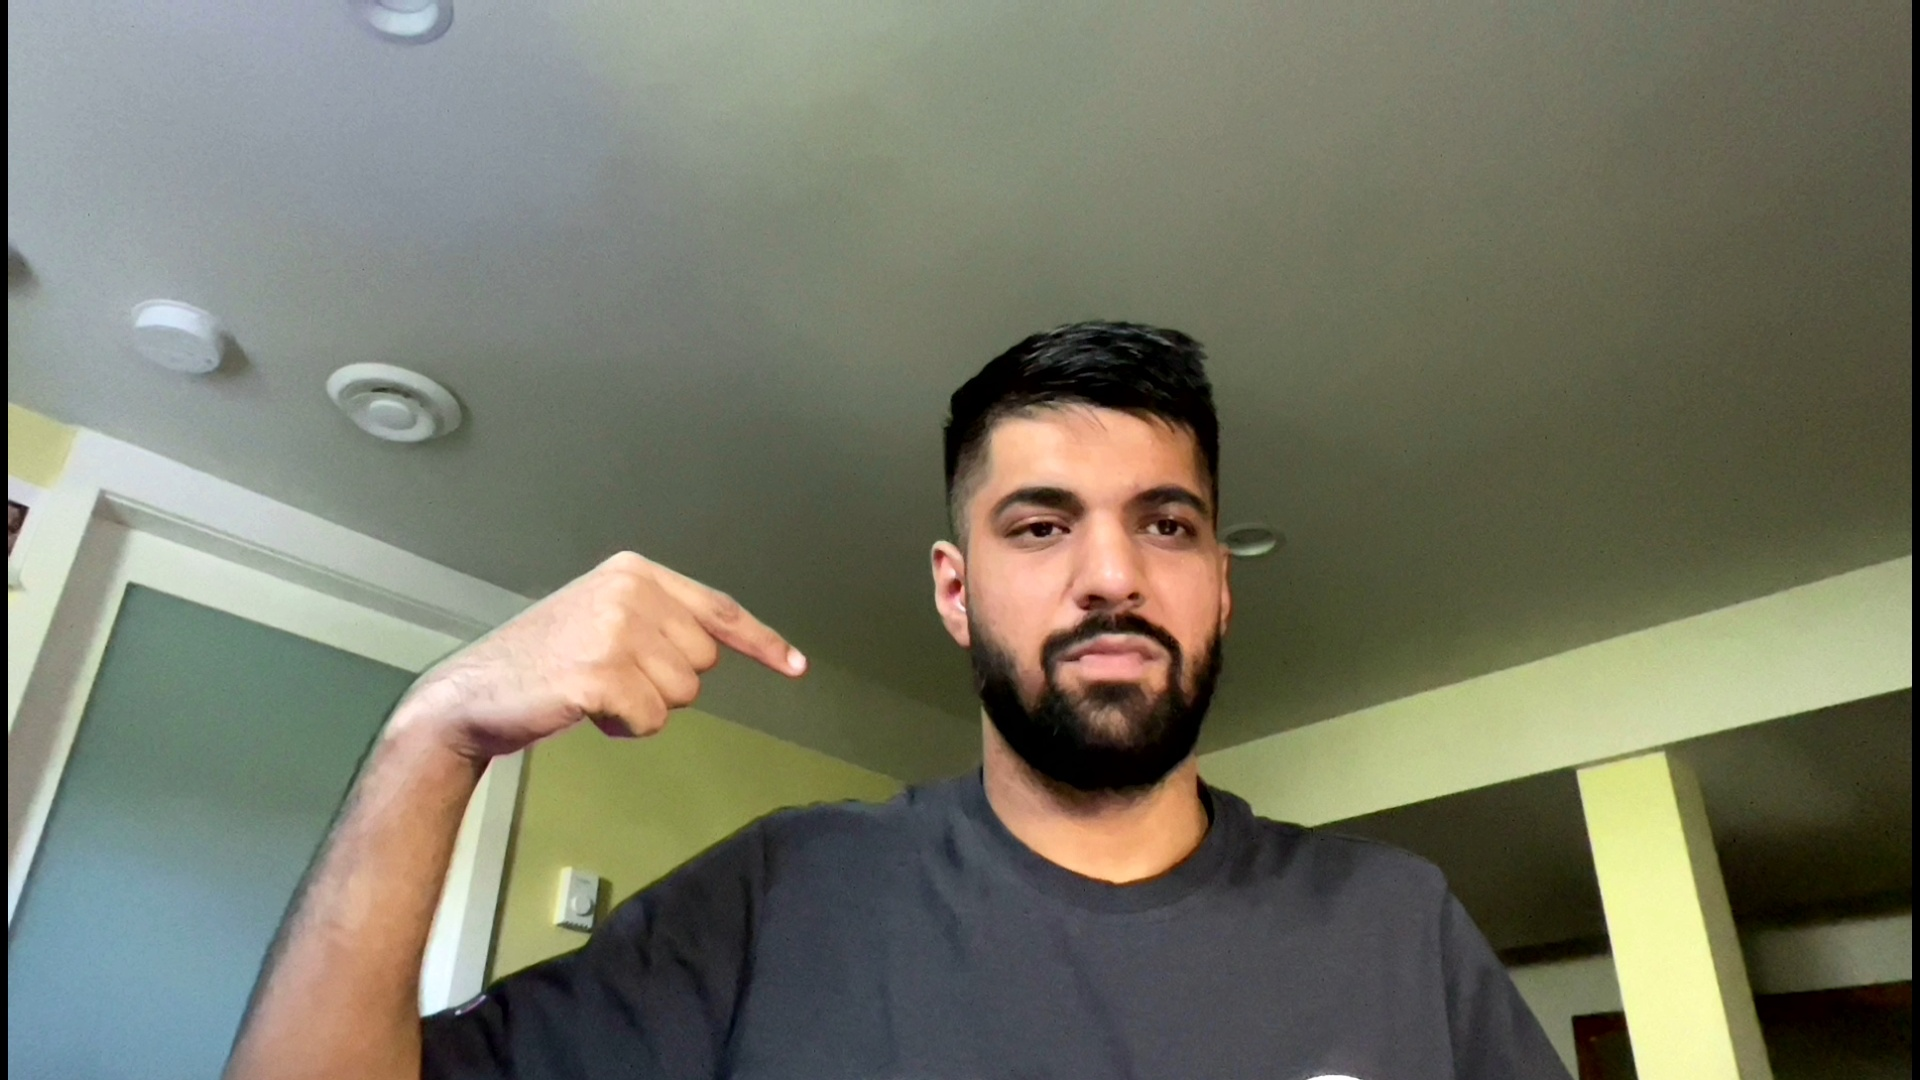Vikrant: (440, 524, 843, 793)
